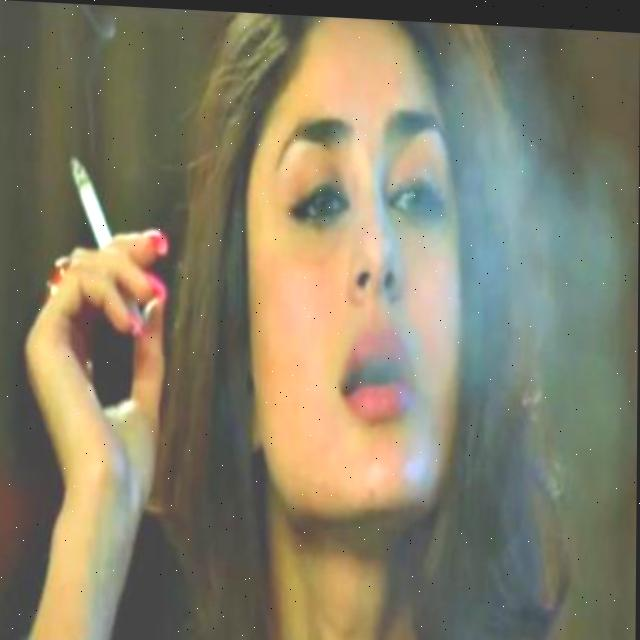cigarette: (68, 155, 114, 247)
